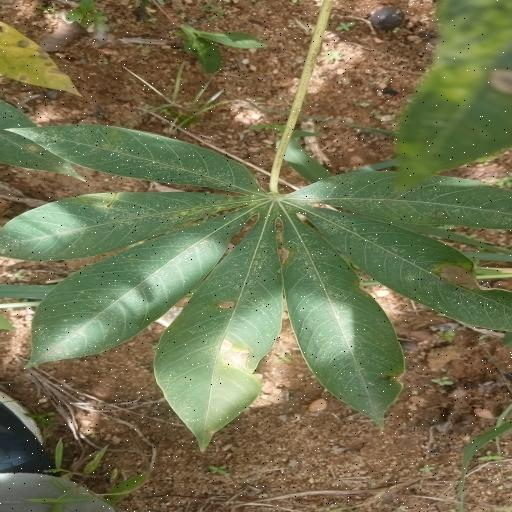Cassava_Brown_Leaf_Spot: (3, 120, 507, 449)
